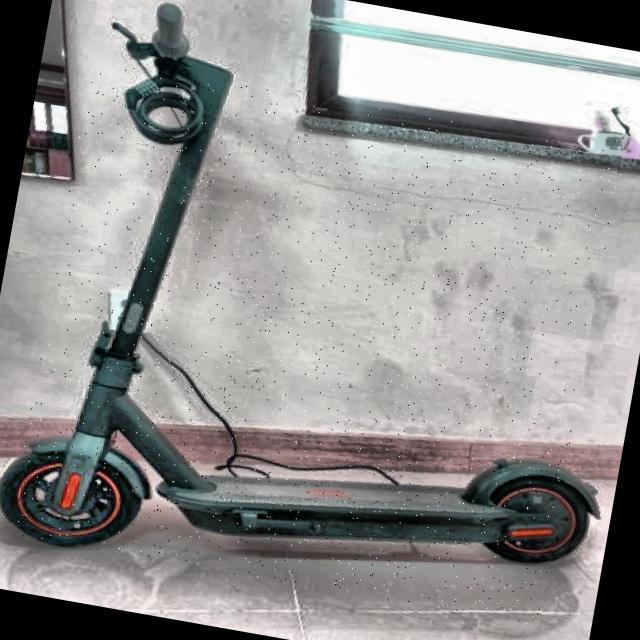bike: (0, 7, 610, 578)
